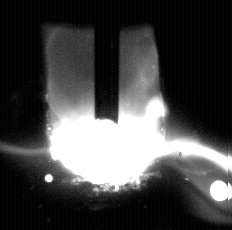arame: (96, 0, 119, 124)
poca: (51, 0, 163, 230)
